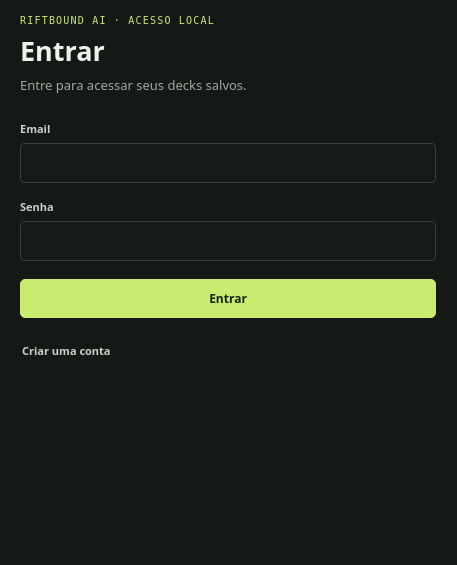
Test: AuthPanel › does not submit registration when password confirmation differs
Click the button "Criar uma conta" at (66, 350), box x1=20 y1=336 x2=112 y2=365
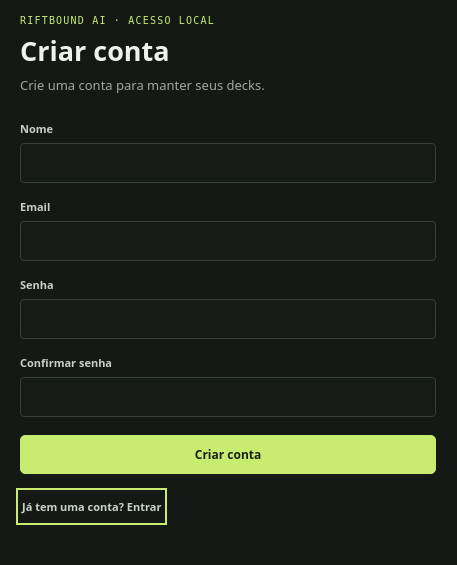
Type "Ari Lima" into the field labelled "Nome" at (228, 163), box x1=20 y1=143 x2=436 y2=183
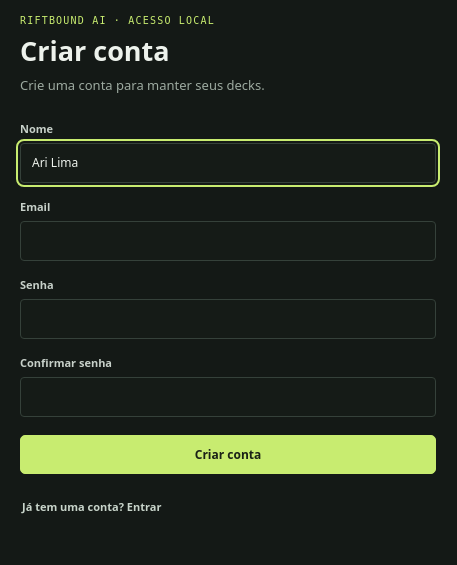
Type "ari@example.test" into the field labelled "Email" at (228, 241), box x1=20 y1=221 x2=436 y2=261
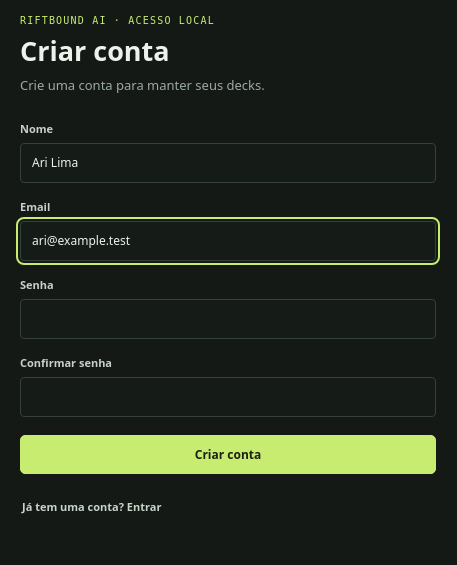
Type "strong-password" into the password field labelled "Senha" at (228, 319), box x1=20 y1=299 x2=436 y2=339
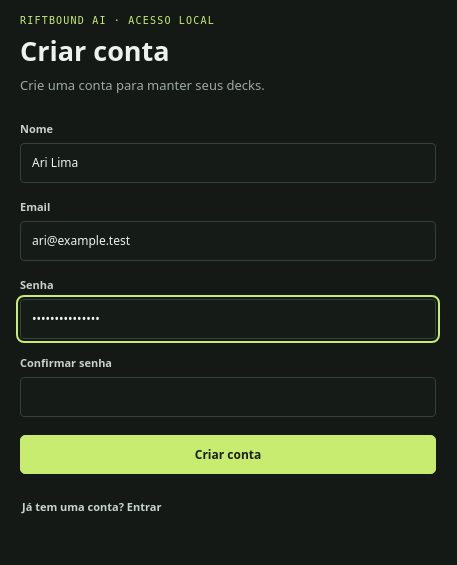
Type "different-password" into the password field labelled "Confirmar senha" at (228, 397), box x1=20 y1=377 x2=436 y2=417
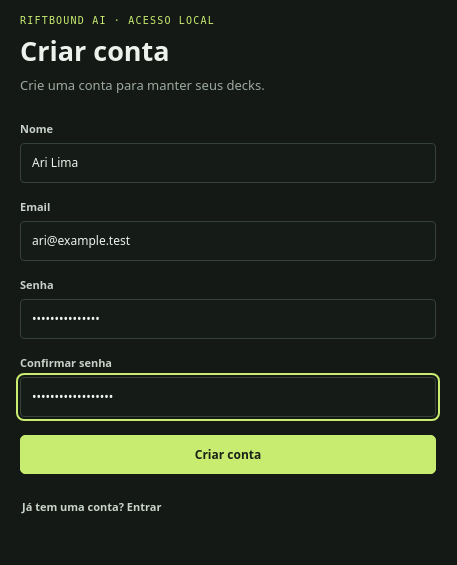
Click the button "Criar conta" at (228, 454), box x1=20 y1=435 x2=436 y2=474
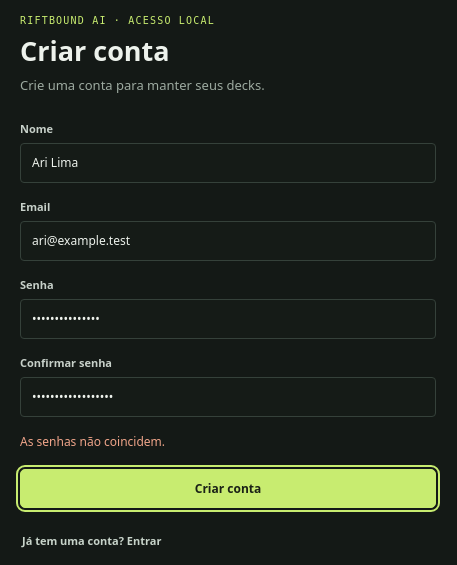
Expected: the message shows "As senhas não coincidem", x1=20 y1=433 x2=165 y2=450
